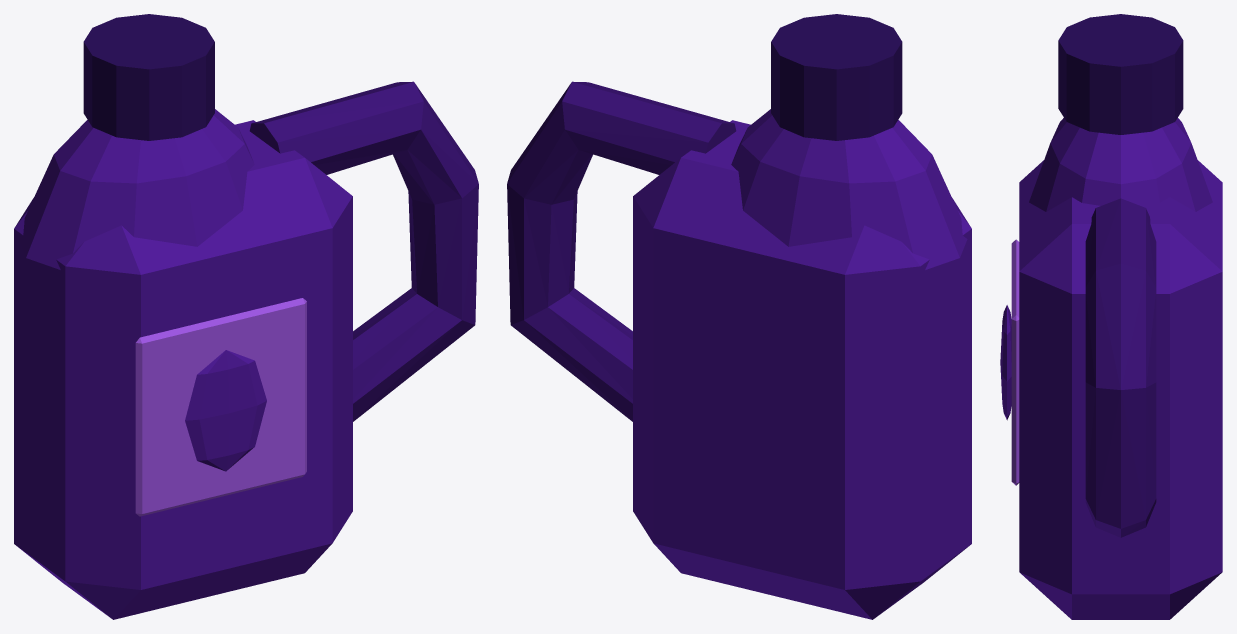
File: Plastic_DetergentJug.fbx
3 renders of one model, left to right at view 1: azimuth 30°, elevation 25°; view 2: azimuth 150°, elevation 25°; view 3: azimuth 270°, elevation 25°, orthographic. The views are drawn at different scales.
Parts seen in each view (by area): view 1: Plastic_DetergentJug; view 2: Plastic_DetergentJug; view 3: Plastic_DetergentJug.
Part boxes in pixels (bbox=[...]): Plastic_DetergentJug: bbox=[14, 14, 478, 619]; Plastic_DetergentJug: bbox=[507, 14, 971, 619]; Plastic_DetergentJug: bbox=[1000, 14, 1222, 619].
Bounding box in the file's own units: 84.58 × 98 × 38.04.
